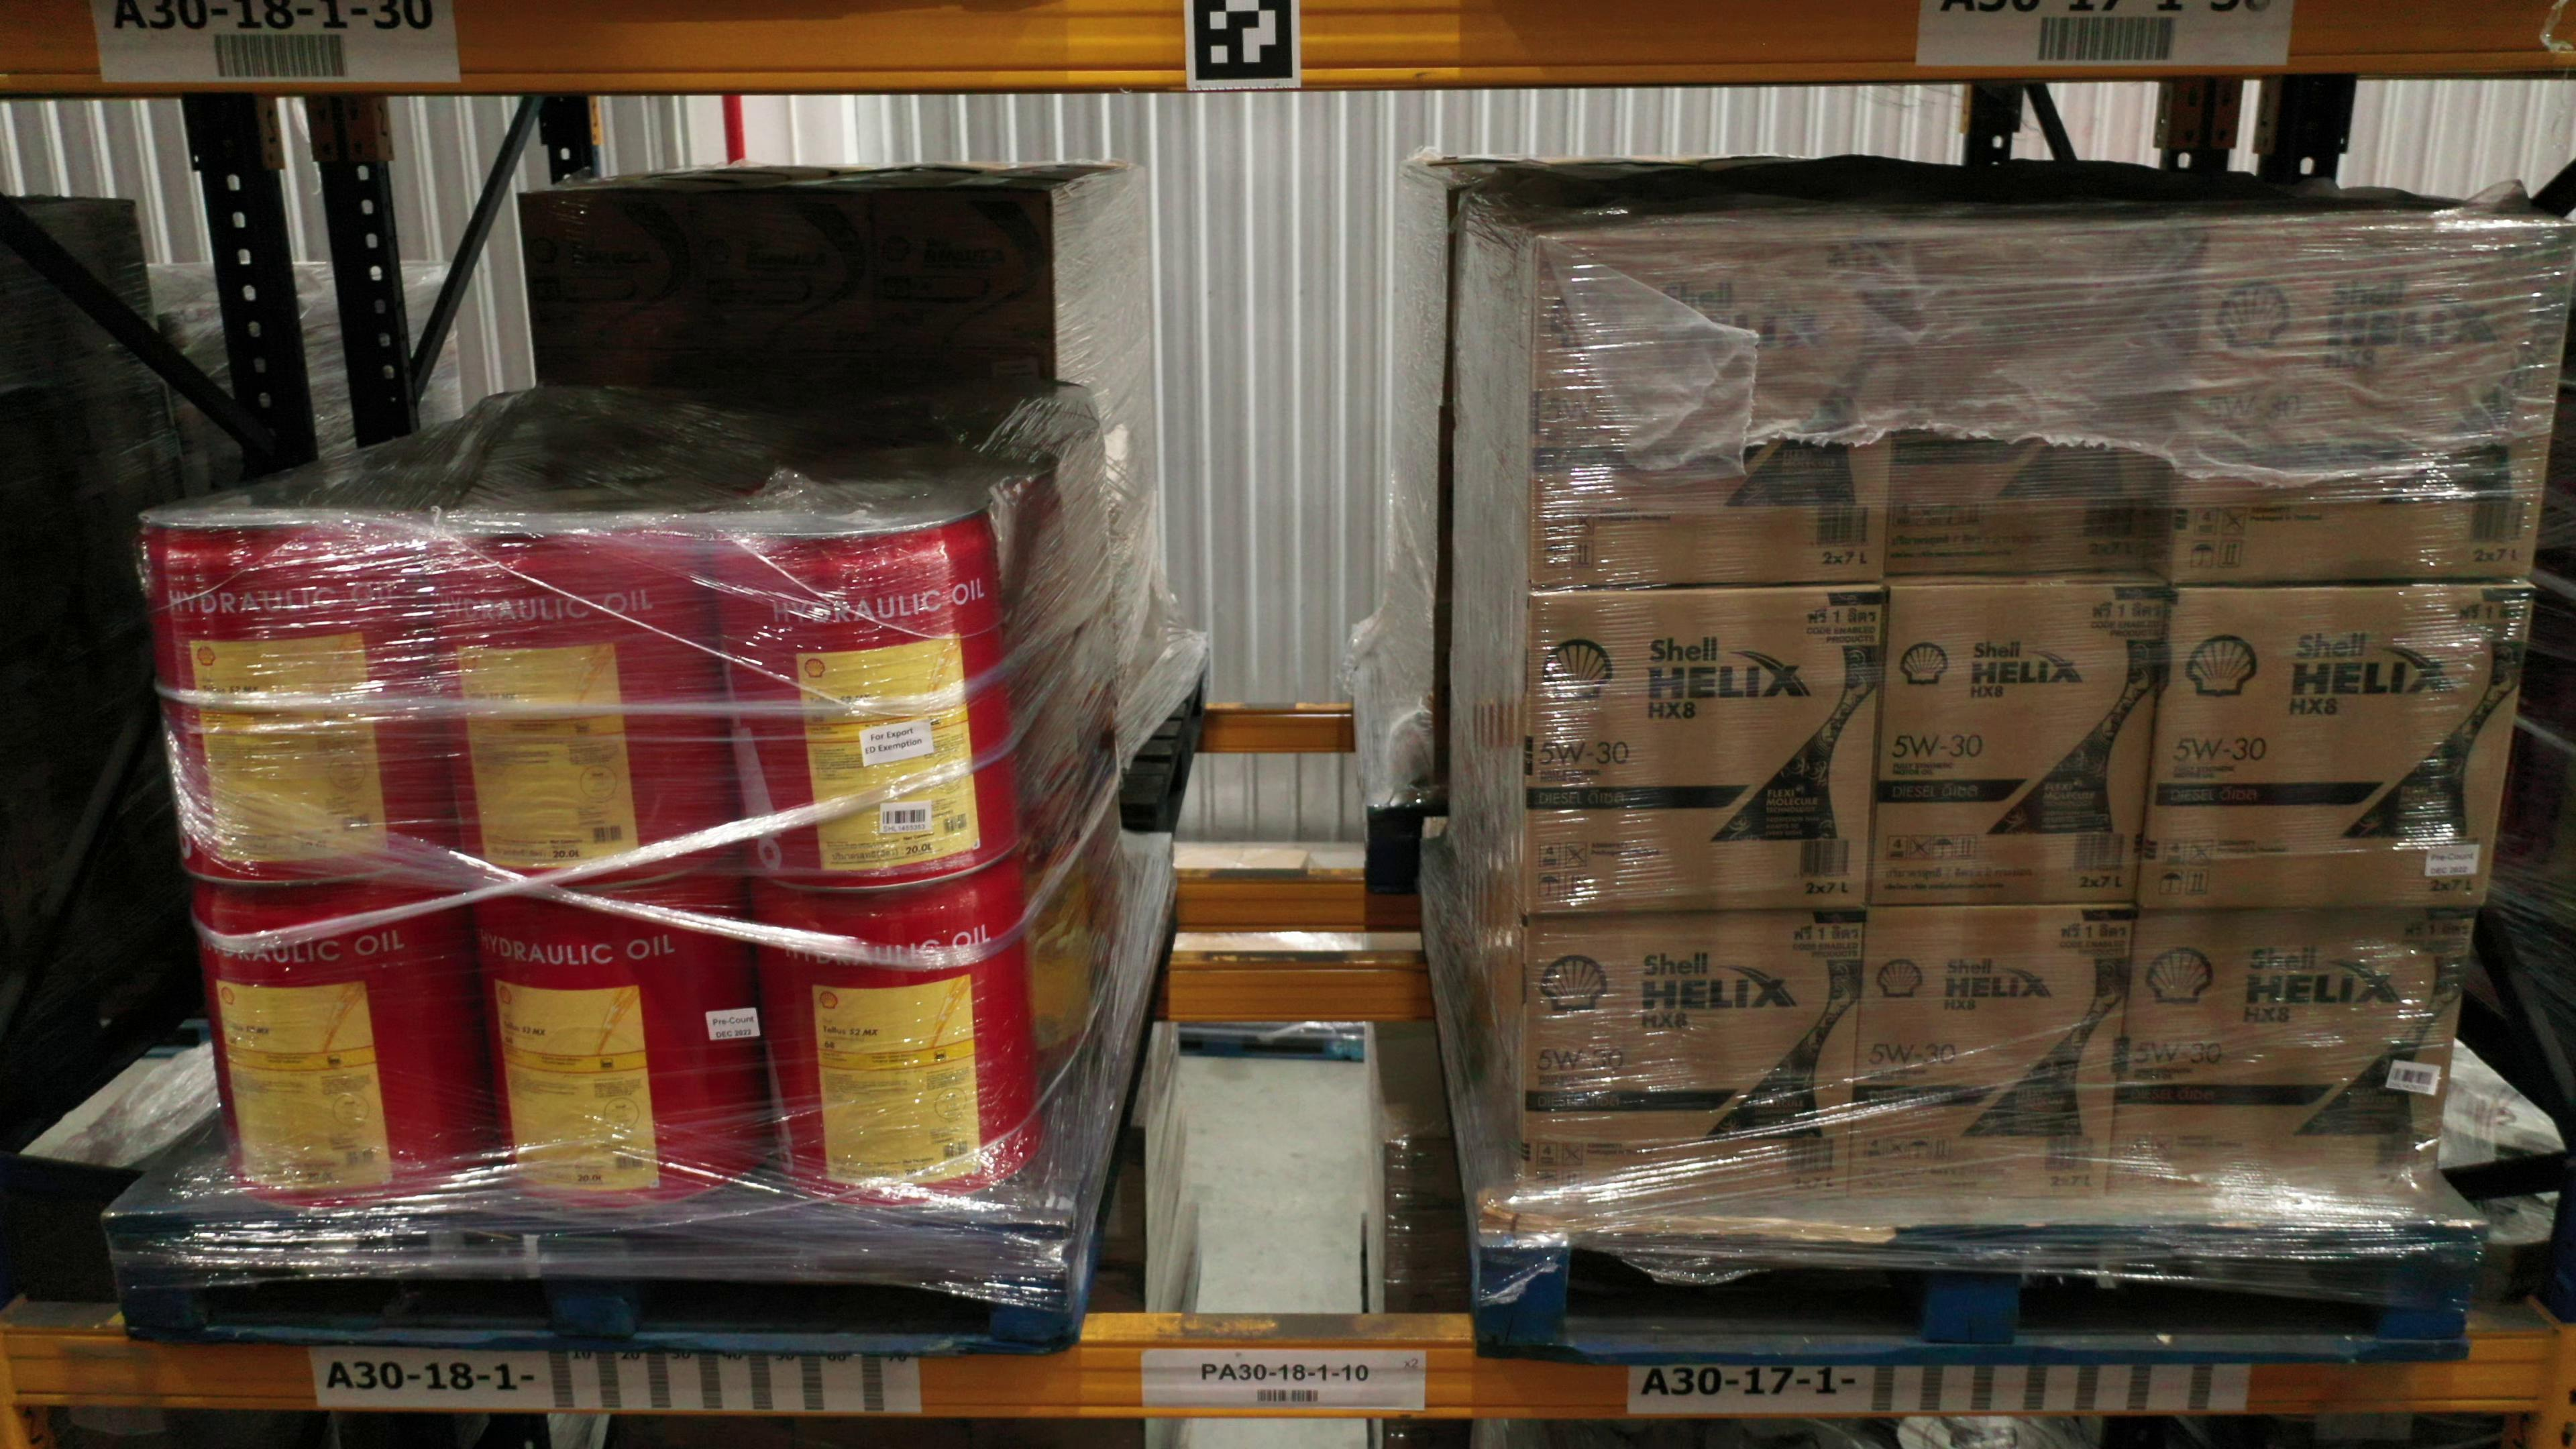-: (2173, 219, 2576, 584), (1527, 230, 1904, 591), (2141, 586, 2534, 909), (713, 502, 1023, 895), (1525, 586, 1890, 918), (432, 506, 734, 892), (142, 511, 451, 886), (2112, 908, 2473, 1219), (465, 855, 768, 1208), (1520, 909, 1870, 1214), (193, 862, 488, 1217), (1890, 221, 2178, 584), (748, 853, 1035, 1210), (1870, 579, 2176, 908), (1849, 906, 2137, 1201)
box: (517, 188, 704, 356), (695, 186, 883, 354), (872, 186, 1051, 356)
